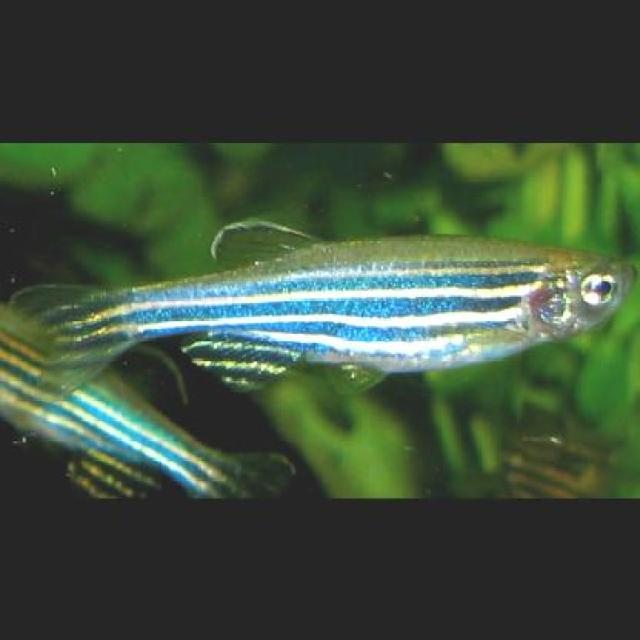ZebraFish: (15, 216, 638, 409)
